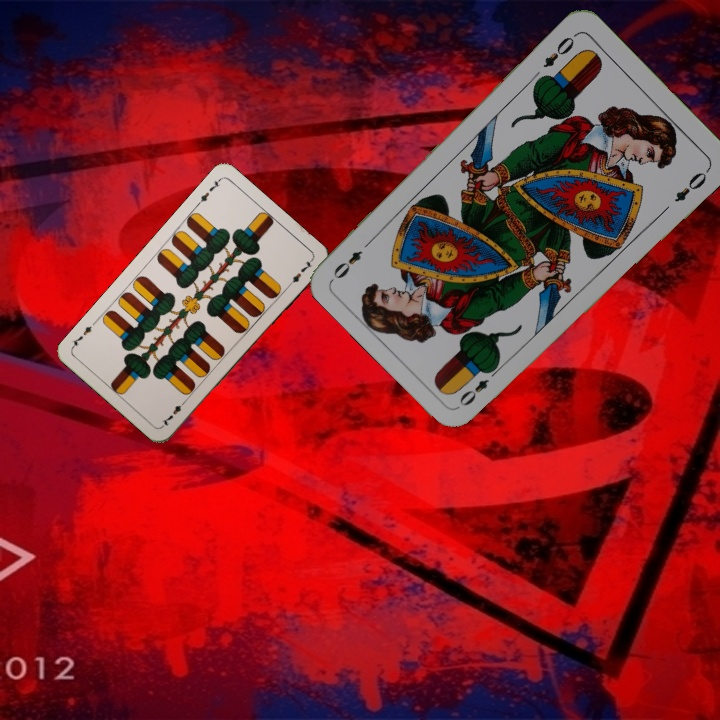E7: (158, 395, 189, 429), (193, 175, 223, 208)
EO: (455, 363, 502, 409), (539, 29, 580, 71)
